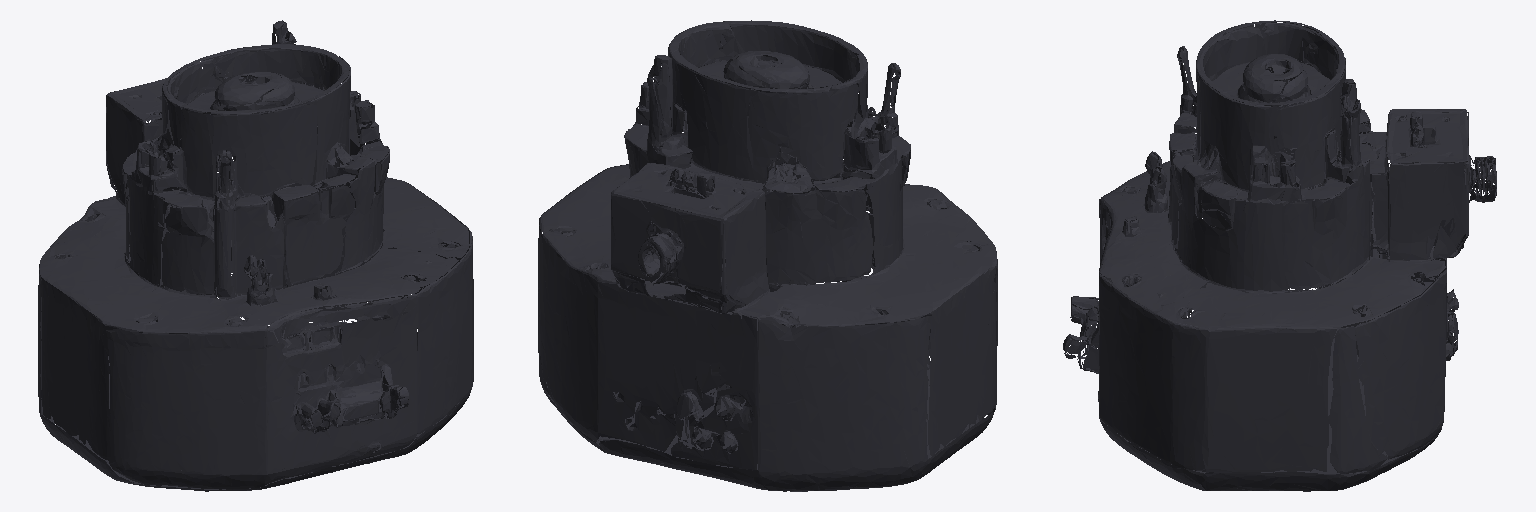
URDF robot description (magbot_tcw1):
<?xml version="1.0" encoding="utf-8"?>
<!-- ═══════════════════════════════════════════════════════════════════════
     Magbot TCW1 마그네틱 툴체인저 — 스펙 기반 프록시 자산 (B안, 2026-07-15)

     공개 CAD(STEP/URDF) 부재 → 사용자 실측 스펙 기반 원기둥 프록시:
       외경 Ø95mm(r=0.0475), 결합 길이 86.5mm, 질량 1.162kg(로봇측+툴측 합산),
       가반하중 10kg. 로봇측 플랜지 = UR tool0(ISO 9409-1-50-4-M6) 동심 결합.
     관성 = 균질 원기둥 해석식:
       Izz = ½mr²                 = 0.5·1.162·0.0475²            = 1.311e-3
       Ixx = Iyy = m(3r²+h²)/12   = 1.162·(3·0.0475²+0.0865²)/12 = 1.380e-3
     프레임: 링크 원점 = 로봇측 결합면 중심, +z = 공구축(툴측 방향).
     ⚠️ 벤더(magbot.kr) STEP 확보 시 이 프록시를 실형상으로 교체(조사 이력은 Git history,
        현행 정책은 루트 README 자산 절). 실형상 교체해도 결합 스택 86.5mm는 불변 계약.
     사용처: ① 단독 USD(뷰포트 검수용) ② ur5e_2fg7/ur5e_tcw1_2fg7.urdf가 동일
       수치를 인라인으로 내장(결합 articulation은 단일 URDF여야 하므로 참조 아님).
     변환: scripts/tools/convert_2fg7_usd.py 에 input=magbot_tcw1.urdf,
           output=magbot_tcw1.usd, fix_base 플래그로 실행 (CLI 인자)
     ═══════════════════════════════════════════════════════════════════════ -->
<robot name="magbot_tcw1">
  <material name="tcw1_dark">
    <color rgba="0.25 0.25 0.28 1.0"/>
  </material>

  <link name="tcw1_link">
    <inertial>
      <origin xyz="0 0 0.04325" rpy="0 0 0"/>
      <mass value="1.162"/>
      <inertia ixx="0.001380" iyy="0.001380" izz="0.001311" ixy="0" iyz="0" ixz="0"/>
    </inertial>
    <!-- ★시각 = 사용자 제공 Magbot OBJ(Meshy AI)★ — 비균일 스케일로 Ø95×86.5 보정 +
         Rx90°(mesh y축→z축) + z정렬. 상세=ur5e_tcw1_2fg7.urdf tcw1_link 주석. 시각 전용. -->
    <visual>
      <origin xyz="0 0 0.04325" rpy="1.5707963267948966 0 0"/>
      <geometry>
        <mesh filename="magbot_tcw1_visual.obj" scale="0.06188 0.08800 0.04750"/>
      </geometry>
      <material name="tcw1_dark"/>
    </visual>
    <collision>
      <origin xyz="0 0 0.04325" rpy="0 0 0"/>
      <geometry>
        <cylinder radius="0.0475" length="0.0865"/>
      </geometry>
    </collision>
  </link>
</robot>

--- What the picture shows (computed from the rendered views, not written in the file) ---
The picture shows the robot from 3 angles, left to right: view 1: azimuth 30°, elevation 25°; view 2: azimuth 150°, elevation 25°; view 3: azimuth 270°, elevation 25°; orthographic projection.
Robot: magbot_tcw1 — 1 links, 0 joints (none); root link tcw1_link; default pose: every joint at zero.
Visible links, largest first — view 1: tcw1_link; view 2: tcw1_link; view 3: tcw1_link.
Link boxes in pixels (x1,y1,x2,y2): tcw1_link: (38,20,473,491); tcw1_link: (538,20,997,491); tcw1_link: (1063,20,1496,491).
Bounding box of the posed robot: 0.095 × 0.095 × 0.0865 m (x, y, z).
Meshes: 1 distinct files referenced, 1 mesh visuals loaded (1 OBJ).
